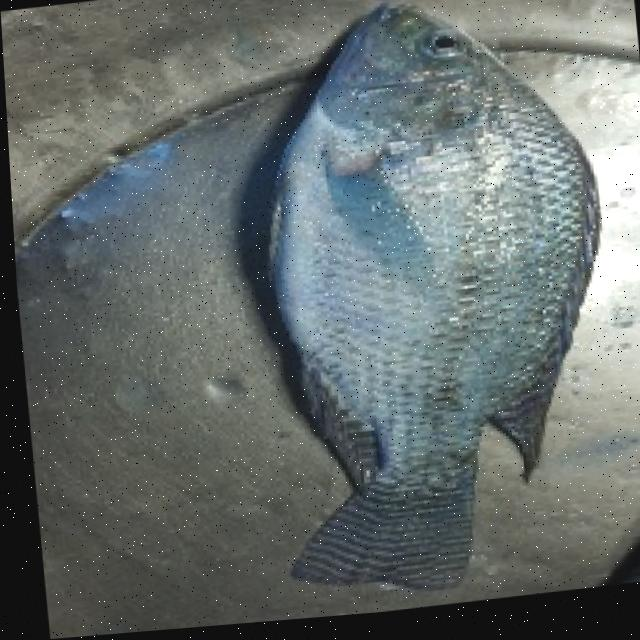Fresh: (224, 0, 626, 478), (408, 21, 472, 80)
